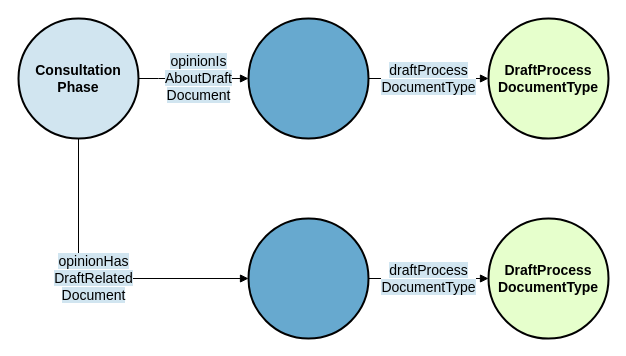
Image size: 626x356. Some labels were removed from this diagram. Here are the shapes that lost their labels. From the top down, the box of each, then its label:
(247, 17, 369, 139): Draft Document
(247, 217, 369, 339): DraftRelated Document
